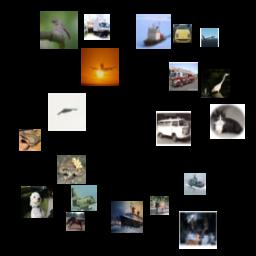airplane: (48, 93, 86, 131), (81, 48, 119, 86), (71, 185, 97, 211), (200, 28, 219, 47)
automobile: (156, 111, 191, 146), (173, 24, 192, 43)
bird: (40, 11, 78, 49), (201, 69, 230, 98)
cat: (210, 104, 245, 139)
deer: (179, 211, 217, 249), (150, 196, 169, 215)
dog: (21, 186, 53, 218)
frog: (57, 155, 86, 184), (19, 129, 41, 151)
ship: (136, 14, 171, 49), (111, 201, 143, 233), (184, 173, 206, 195)
truck: (169, 62, 198, 91), (84, 14, 110, 40)
